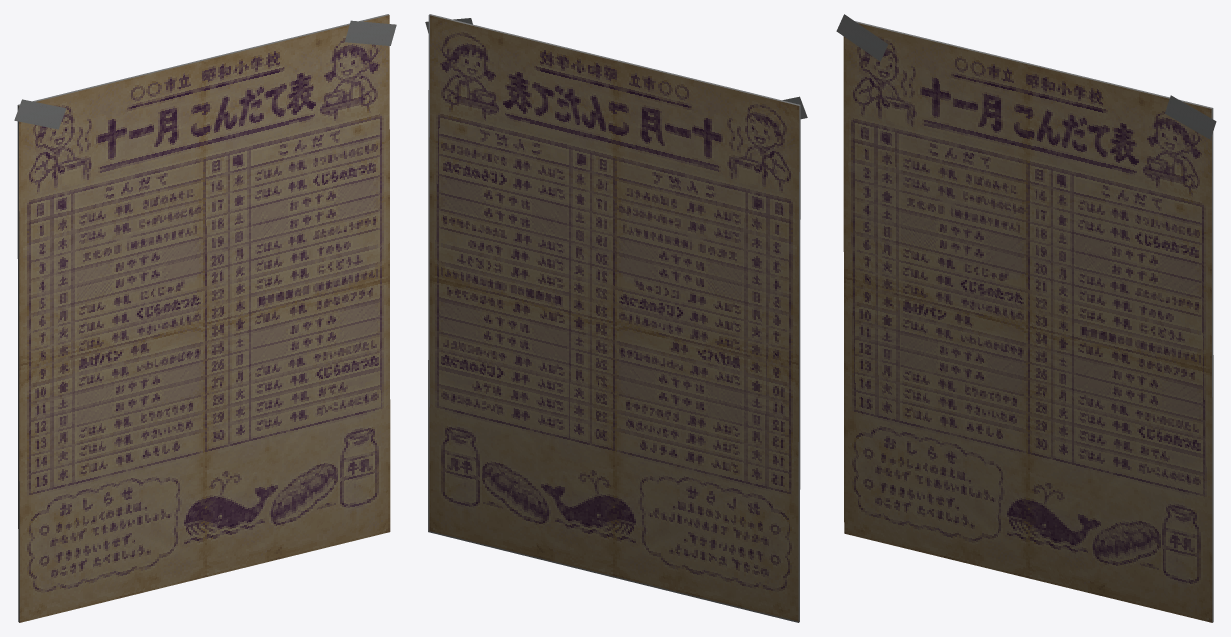
File: prop_poster-kondate-5.glb
3 renders of one model, left to right at view 1: azimuth 30°, elevation 25°; view 2: azimuth 150°, elevation 25°; view 3: azimuth 330°, elevation 25°, orthographic.
Visible parts, largest first — view 1: prop_poster-kondate-5; view 2: prop_poster-kondate-5; view 3: prop_poster-kondate-5.
Part boxes in pixels (left/top/right/bottom): prop_poster-kondate-5: left=14, top=14, right=396, bottom=622; prop_poster-kondate-5: left=425, top=14, right=807, bottom=622; prop_poster-kondate-5: left=836, top=14, right=1216, bottom=622.
Size of the model in its own units: 0.4757 by 0.6227 by 0.0055.
2 materials, 2 textured.
